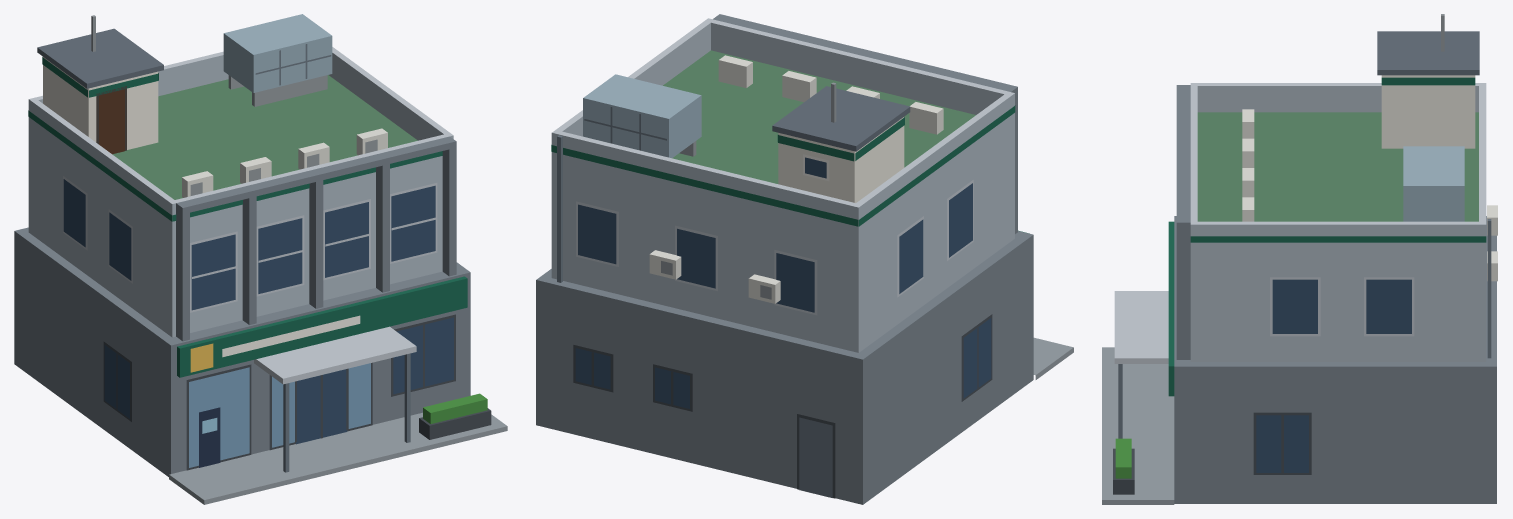
The model's file is kantor_00.glb.
3 renders of one model, left to right at view 1: azimuth 30°, elevation 25°; view 2: azimuth 150°, elevation 25°; view 3: azimuth 270°, elevation 25°, orthographic. The views are drawn at different scales.
Parts seen in each view (by area): view 1: kantor_00; view 2: kantor_00; view 3: kantor_00.
Part boxes in pixels (x1=…): kantor_00: x1=14, y1=14, x2=507, y2=504; kantor_00: x1=536, y1=14, x2=1073, y2=504; kantor_00: x1=1102, y1=14, x2=1497, y2=504.
Bounding box in the file's own units: 10 × 11.16 × 10.99.
